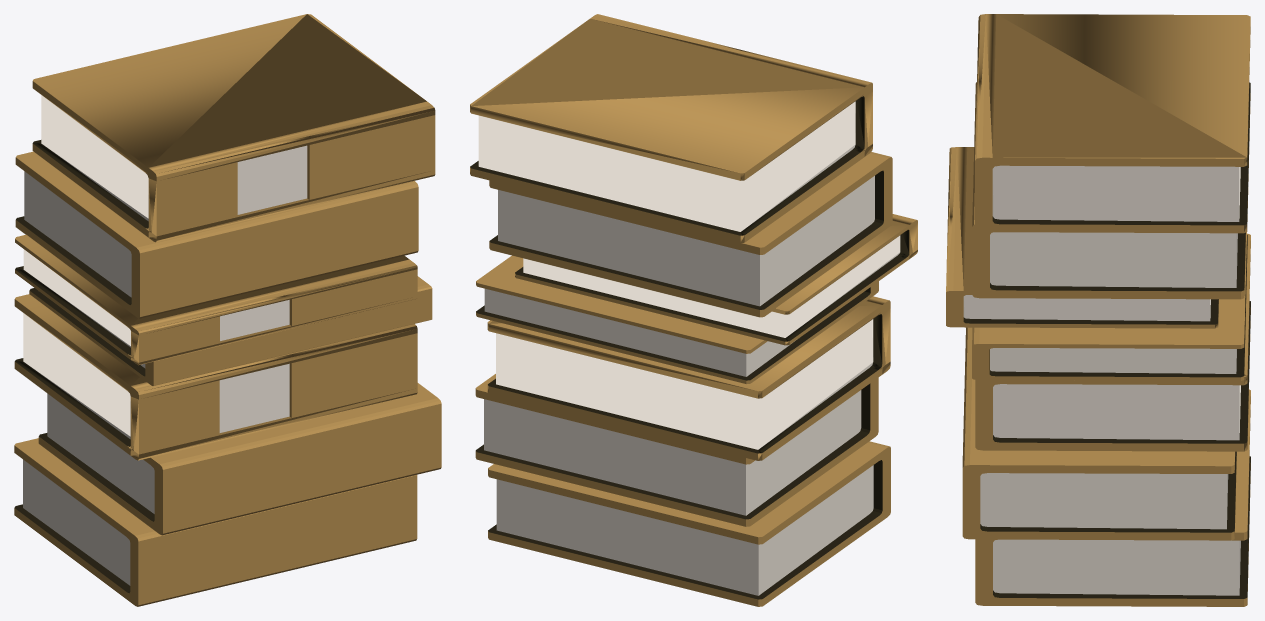
The model's file is Stack of 7books.fbx.
The picture shows the model from 3 angles, left to right: view 1: azimuth 30°, elevation 25°; view 2: azimuth 150°, elevation 25°; view 3: azimuth 270°, elevation 25°; orthographic projection. The views are drawn at different scales.
Visible parts, largest first — view 1: BOOK_LABEL_3, Box002_40, BOOK_LABEL_4, Box002_37, Box002_35, BOOK_LABEL_8, Box002_41; view 2: BOOK_LABEL_3, Box002_35, BOOK_LABEL_4, Box002_40, Box002_37, Box002_41, BOOK_LABEL_8; view 3: BOOK_LABEL_3, Box002_37, BOOK_LABEL_4, Box002_35, Box002_40, Box002_41, BOOK_LABEL_8.
Boxes of the visible parts, <box> form: BOOK_LABEL_3: <box>32,14,435,242</box>; Box002_40: <box>15,151,418,318</box>; BOOK_LABEL_4: <box>14,294,417,460</box>; Box002_37: <box>38,383,441,535</box>; Box002_35: <box>14,438,417,606</box>; BOOK_LABEL_8: <box>15,234,417,365</box>; Box002_41: <box>29,276,432,385</box>; BOOK_LABEL_3: <box>470,14,872,243</box>; Box002_35: <box>488,441,890,606</box>; BOOK_LABEL_4: <box>487,296,890,460</box>; Box002_40: <box>489,152,892,317</box>; Box002_37: <box>475,374,878,526</box>; Box002_41: <box>476,255,878,384</box>; BOOK_LABEL_8: <box>515,214,917,345</box>; BOOK_LABEL_3: <box>975,14,1250,233</box>; Box002_37: <box>962,327,1236,540</box>; BOOK_LABEL_4: <box>975,233,1250,451</box>; Box002_35: <box>975,389,1250,606</box>; Box002_40: <box>972,82,1245,299</box>; Box002_41: <box>972,232,1247,381</box>; BOOK_LABEL_8: <box>946,147,1218,328</box>.
Size of the model in its own units: 224 by 297 by 179.
